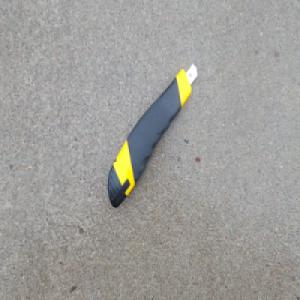Cutter: (105, 59, 200, 210)
